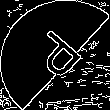P_SE: (22, 24, 88, 86)
